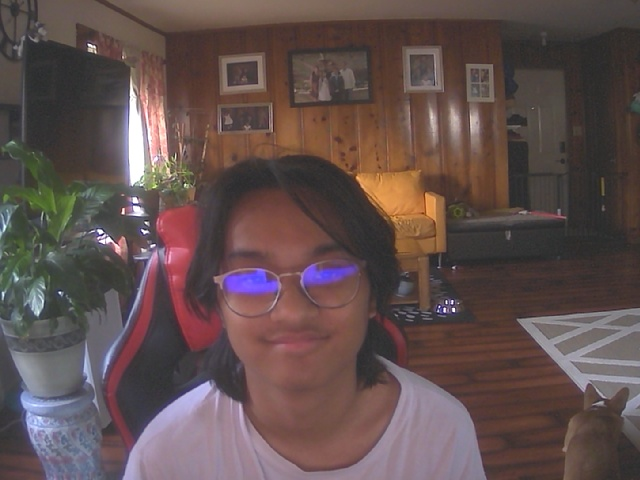happy: (202, 168, 383, 394)
